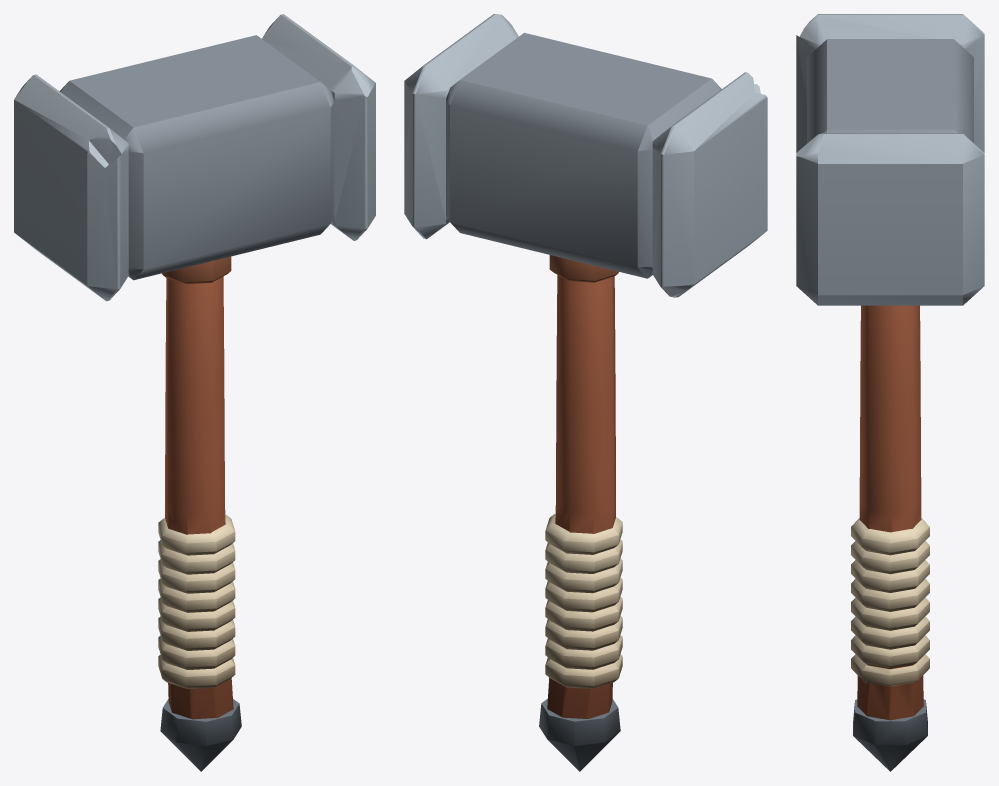
The model's file is warhammer_sledge.glb.
3 renders of one model, left to right at view 1: azimuth 30°, elevation 25°; view 2: azimuth 150°, elevation 25°; view 3: azimuth 270°, elevation 25°, orthographic.
Parts seen in each view (by area): view 1: Item; view 2: Item; view 3: Item.
Boxes of the visible parts, <box> form: Item: <box>14,14,375,771</box>; Item: <box>404,14,767,771</box>; Item: <box>796,14,984,771</box>.
Size of the model in its own units: 0.91 by 2.12 by 0.52.
Materials: 2 (2 with a texture image).
